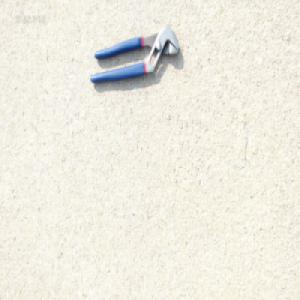Pliers: (89, 24, 179, 84)
